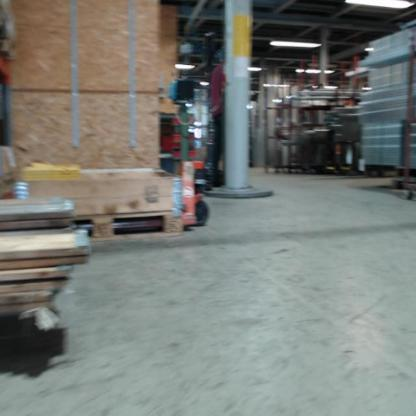pallet: (72, 209, 183, 247)
pallet_truck: (171, 28, 223, 240)
